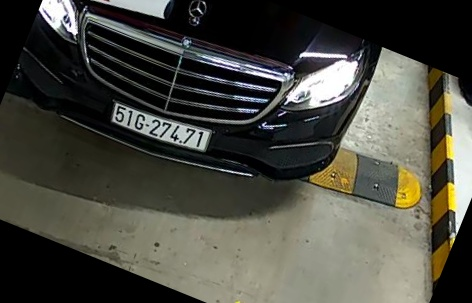plate: (108, 99, 217, 160)
